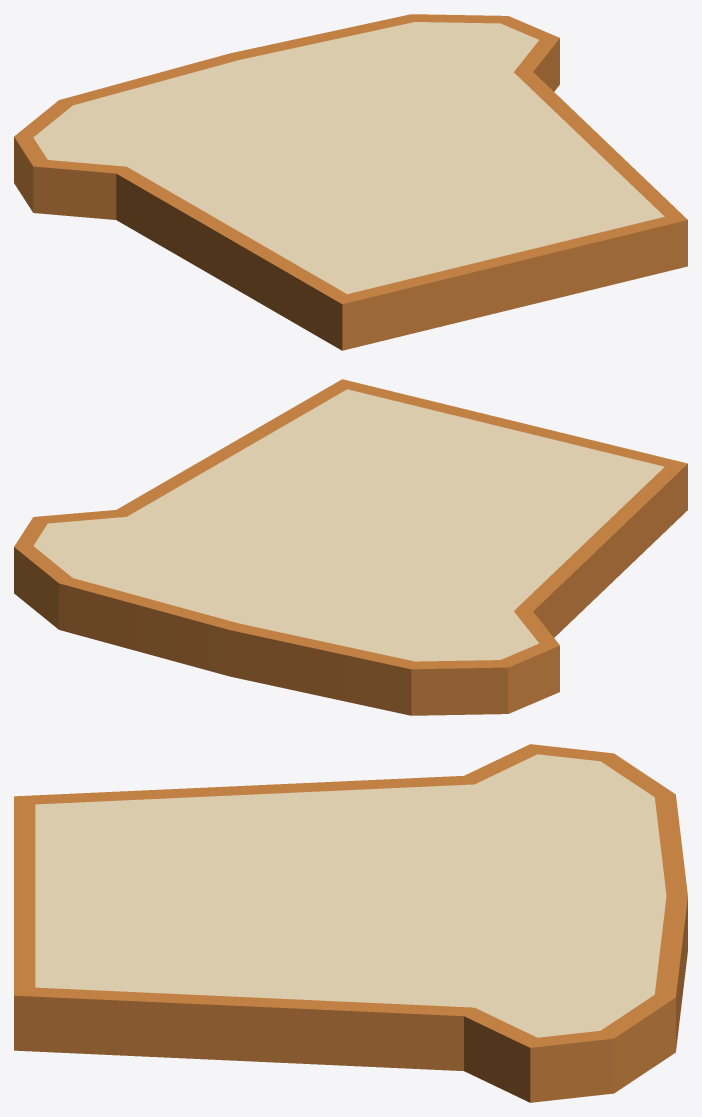
Rendered from breadToast.fbx.
3 views of the same model, one above another, from view 1: azimuth 30°, elevation 25°; view 2: azimuth 150°, elevation 25°; view 3: azimuth 270°, elevation 25° (orthographic). The views are drawn at different scales.
Parts seen in each view (by area): view 1: breadToast; view 2: breadToast; view 3: breadToast.
Part boxes in pixels (x1,y1,x2,y2): breadToast: (14,14,687,350); breadToast: (14,379,687,715); breadToast: (14,744,687,1102).
Bounding box in the file's own units: 213 × 18 × 200.
1 material, 1 textured.
